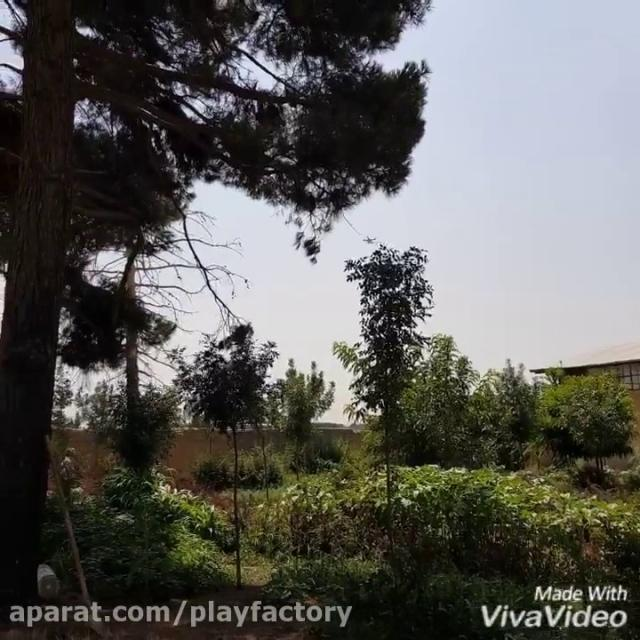drone: (356, 232, 376, 246)
